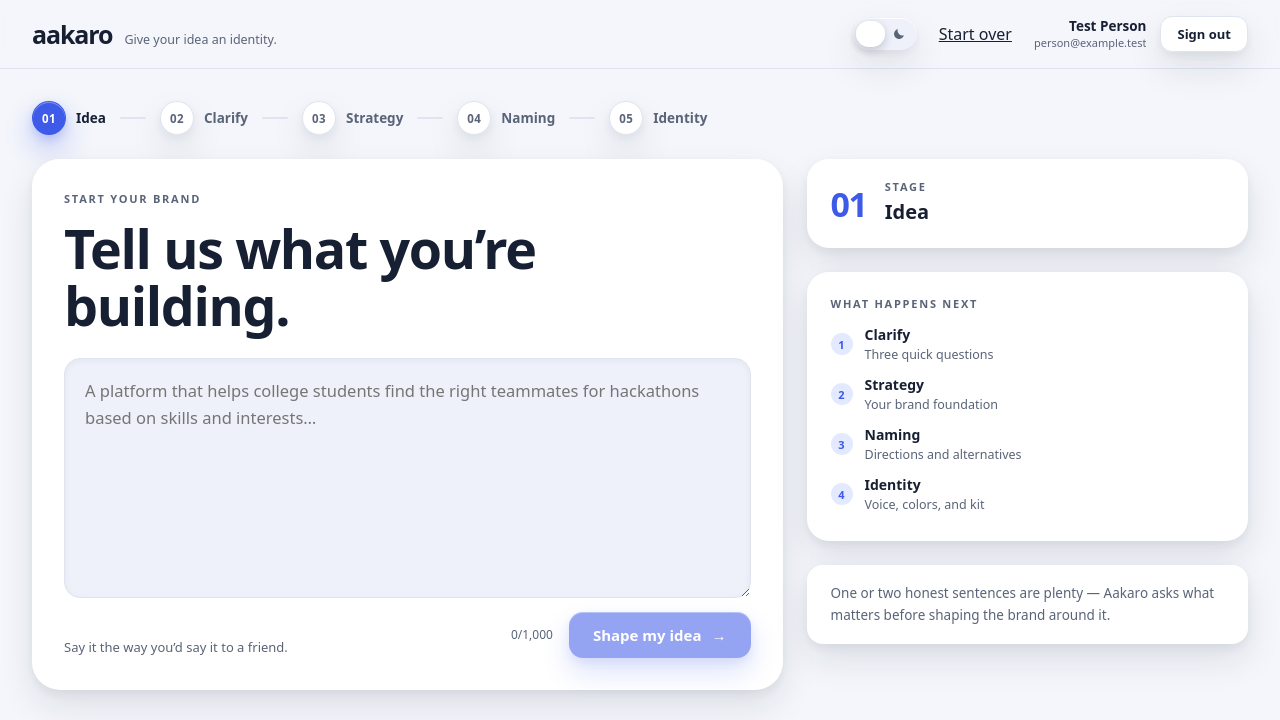
Test: completed progress is kept per account, not shared across sessions
Step 1. Type "An idea" into the text box named "Your idea" → point(407, 478), box [64,358,750,598]
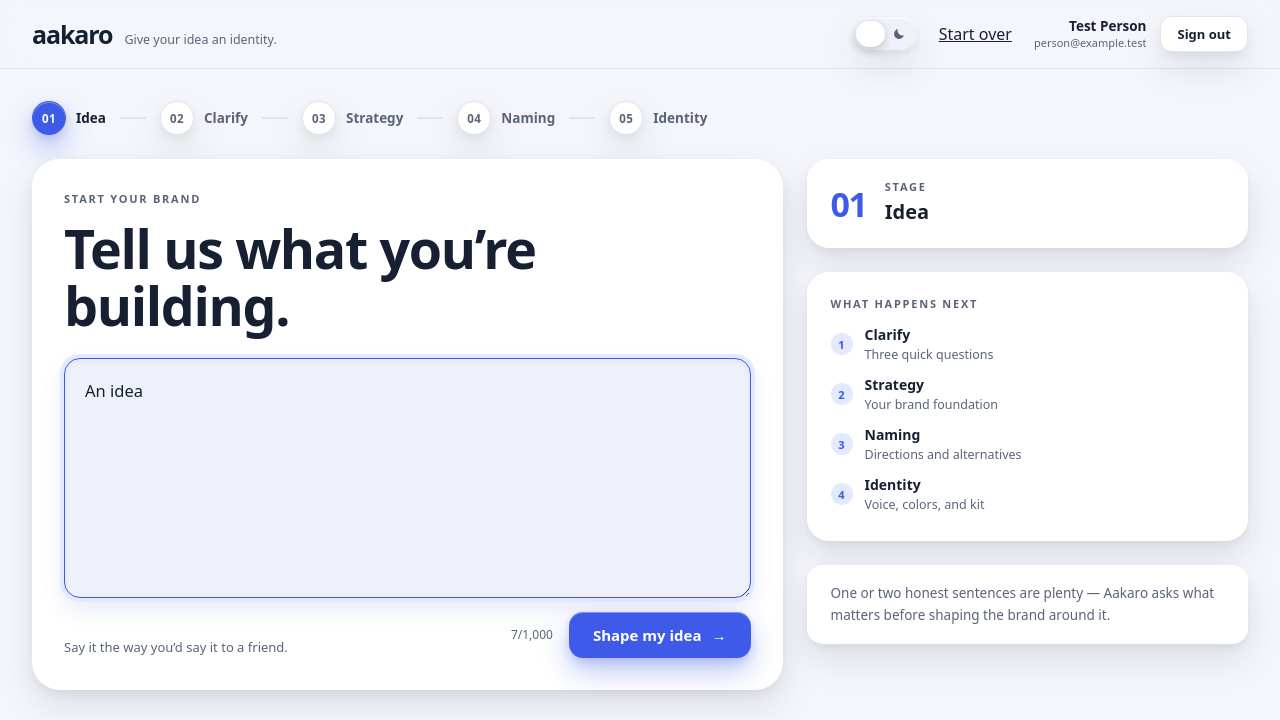
Step 2. Click the button "Shape my idea →" → point(660, 635), box [569,612,750,658]
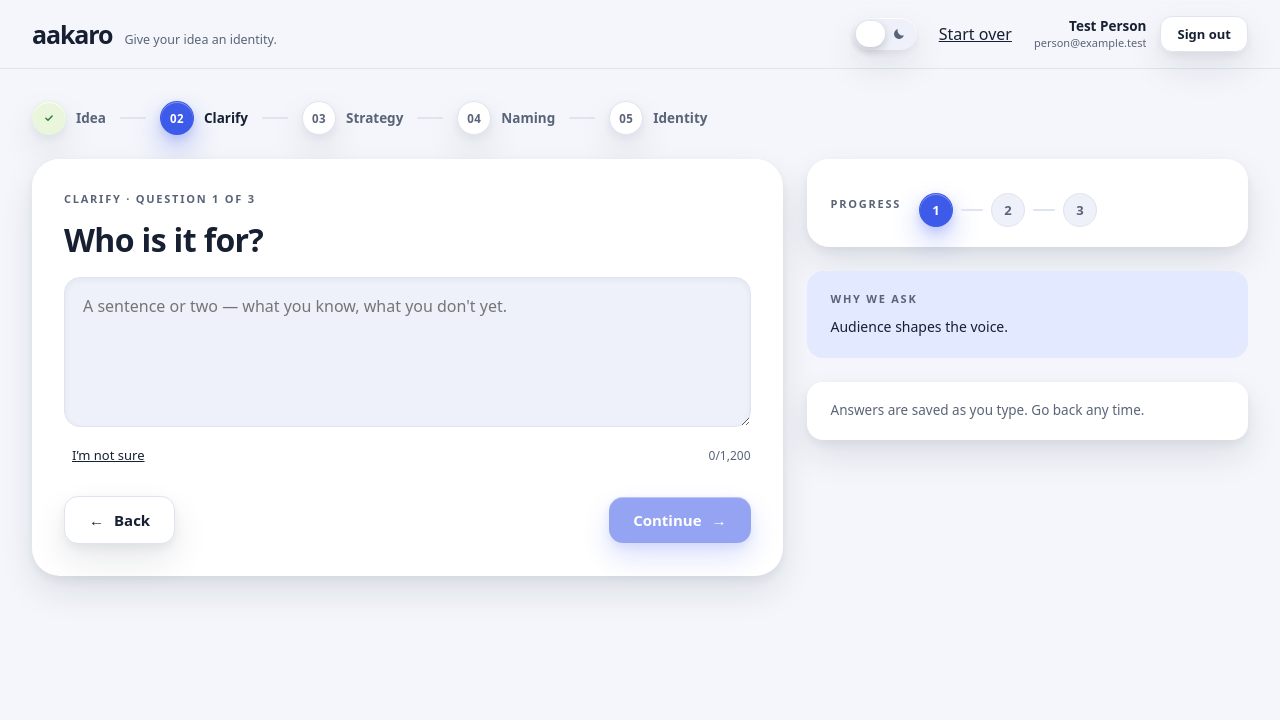
Now the heading "Who is it for?" is shown, box [64,218,263,261]
Step 3. Click the button "Sign out" → point(1204, 34), box [1160,16,1248,52]
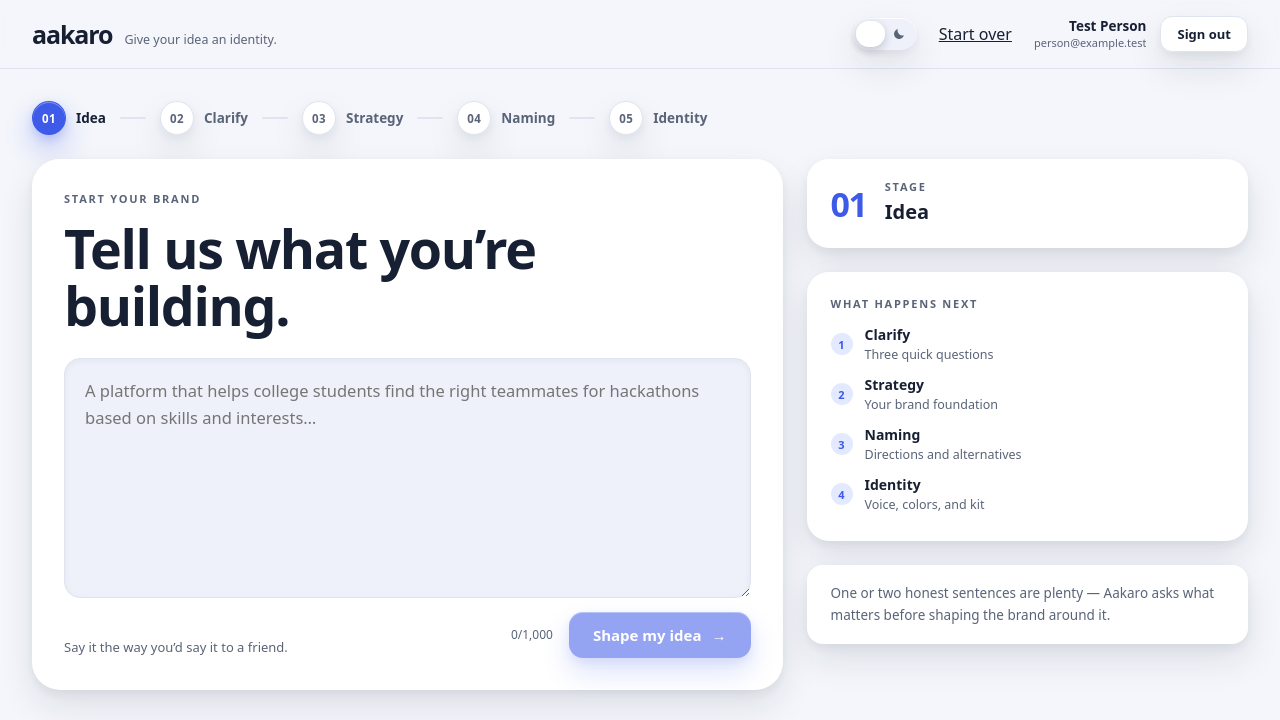
Now the heading "Who is it for?" is gone
Now the text box named "Your idea" is empty, box [64,358,750,598]
